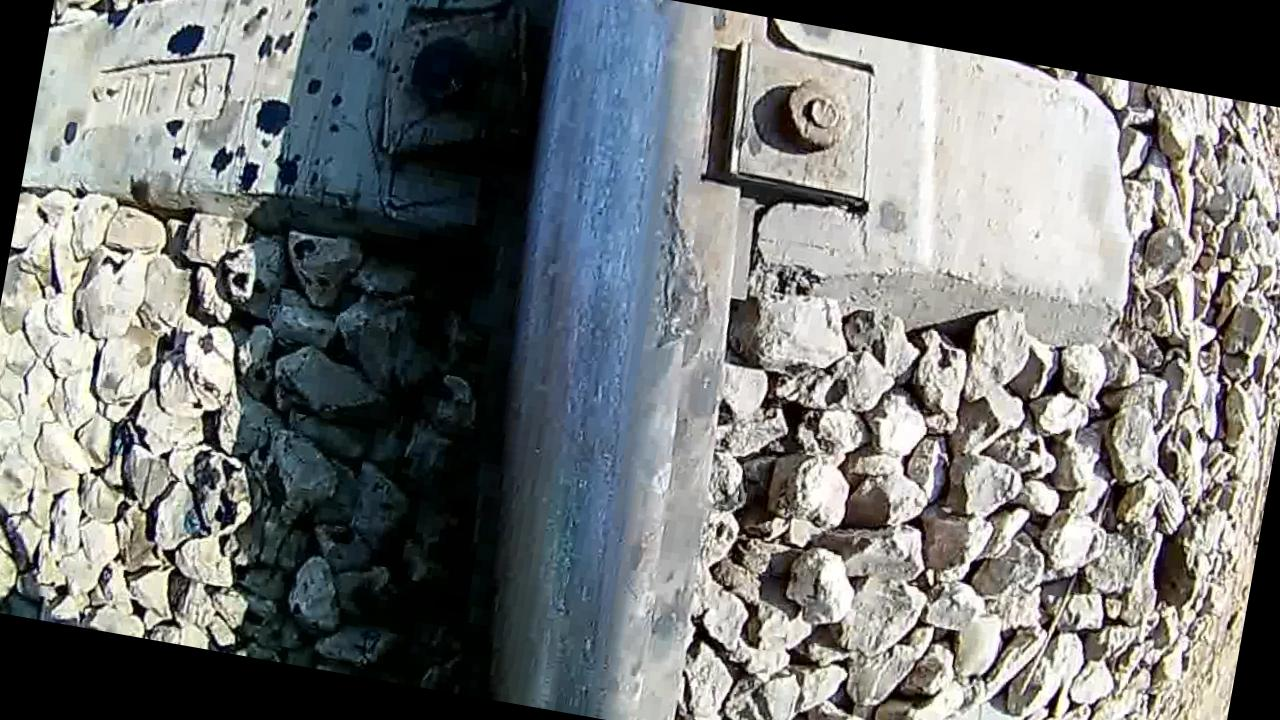clip_missing: (434, 0, 752, 720)
